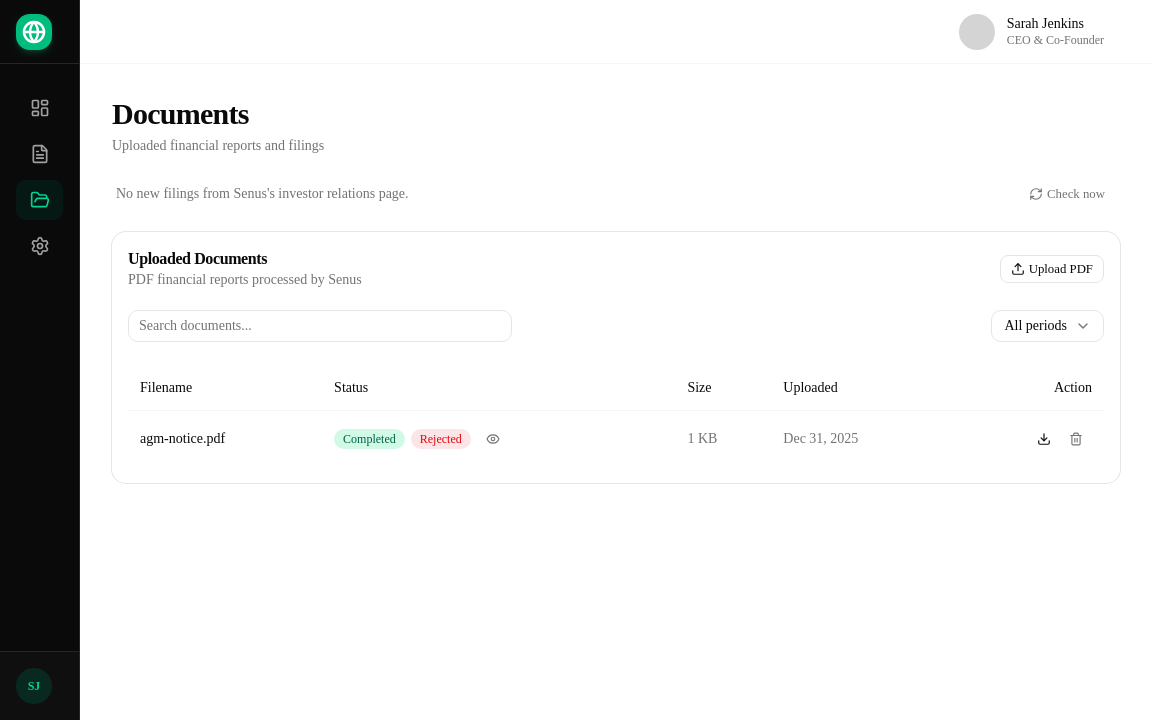
Test: DocumentsPage › opens the review sheet for a rejected document view-only, with no Approve button
Click the button named "review agm-notice.pdf" at {"x": 493, "y": 438}, box [477,422,509,454]
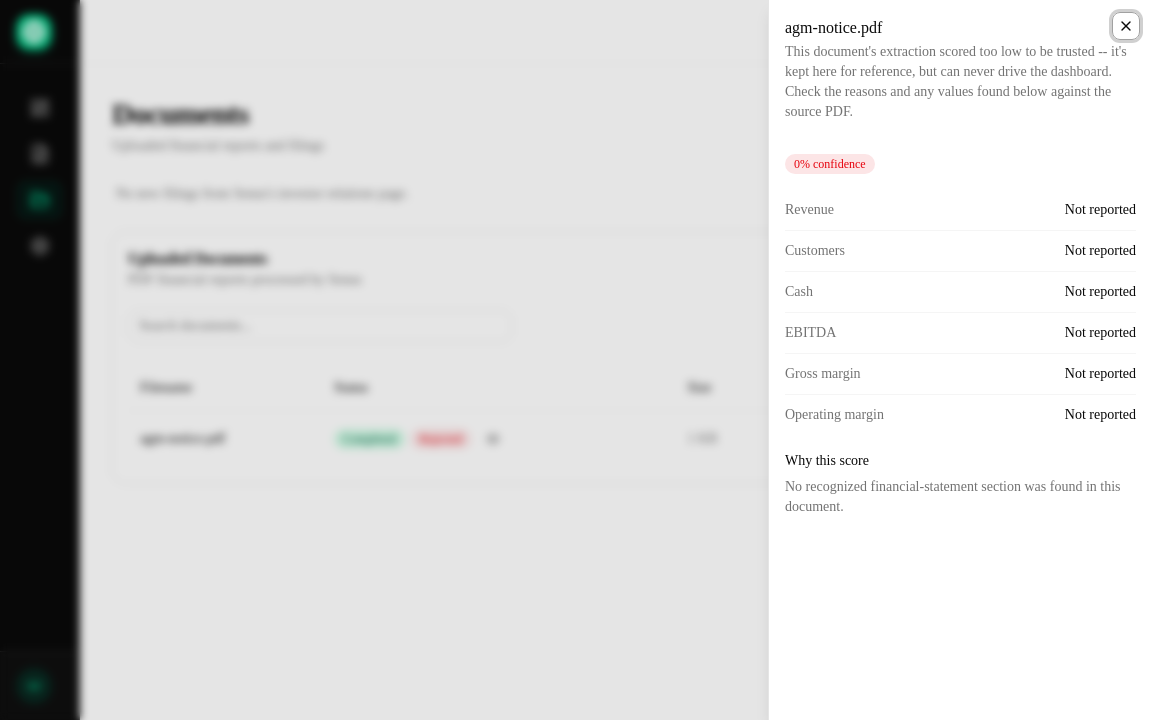
Now the list item "No recognized financial-statement section was found in this document." is shown, box [785,477,1136,517]
